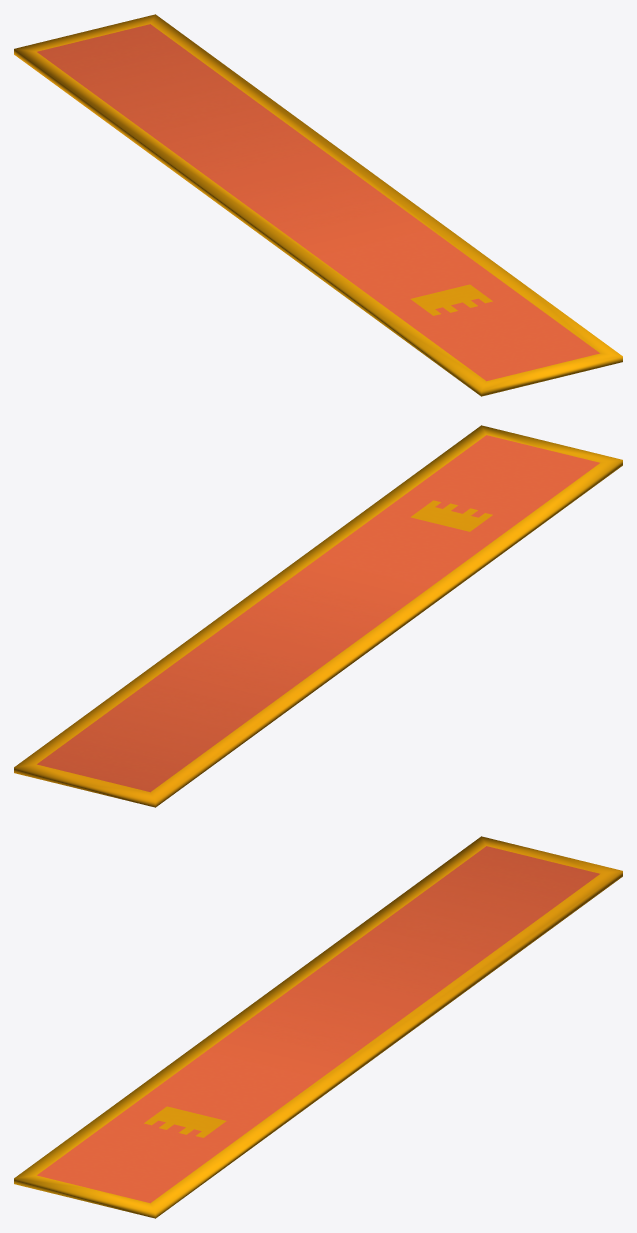
The model's file is Carpet.fbx.
3 renders of one model, top to bottom at view 1: azimuth 30°, elevation 25°; view 2: azimuth 150°, elevation 25°; view 3: azimuth 330°, elevation 25°, orthographic.
Visible parts, largest first — view 1: Carpet; view 2: Carpet; view 3: Carpet.
Part boxes in pixels (x1,y1,x2,y2): Carpet: [14, 14, 622, 396]; Carpet: [14, 425, 622, 807]; Carpet: [14, 836, 622, 1218].
Bounding box in the file's own units: 145 × 5.57 × 830.
